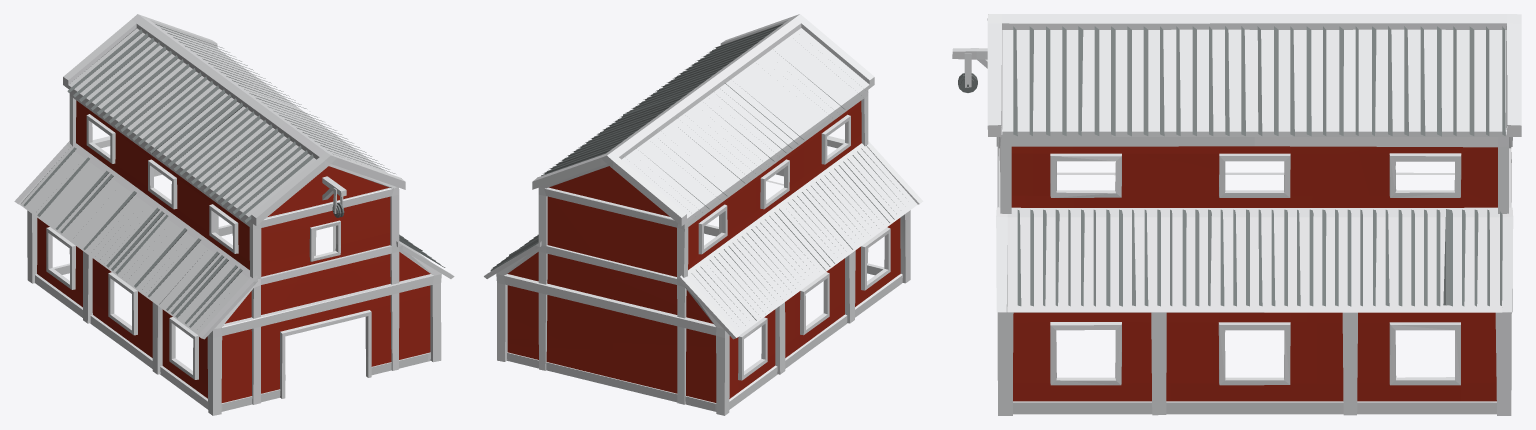
The model's file is Barn.glb.
3 views of the same model, side by side, from view 1: azimuth 30°, elevation 25°; view 2: azimuth 150°, elevation 25°; view 3: azimuth 270°, elevation 25° (orthographic). The views are drawn at different scales.
Visible parts, largest first — view 1: Barn; view 2: Barn; view 3: Barn.
Boxes of the visible parts, x1,y1,x2,y2 form: Barn: [14, 14, 454, 415]; Barn: [484, 14, 923, 415]; Barn: [952, 14, 1521, 415].
Size of the model in its own units: 0.4989 by 0.4441 by 0.704.
Materials: 1 (1 with a texture image).
